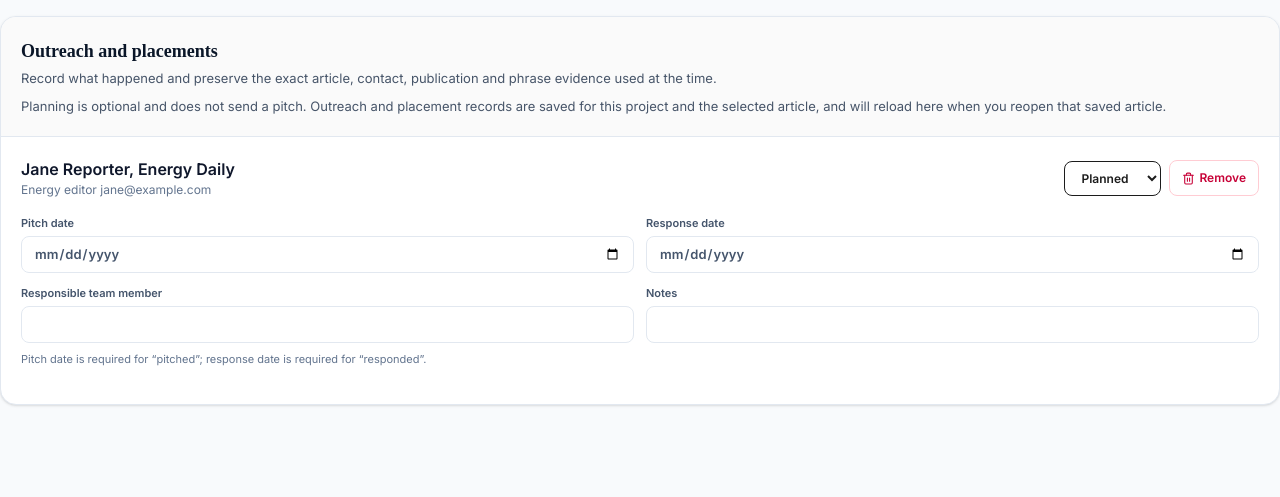
Test case: MediaOutreachPanel › includes the latest date input when moving to pitched
Type "2026-09-01" into the date field labelled "Pitch date". click: x=328, y=254
box: [21,236,634,273]
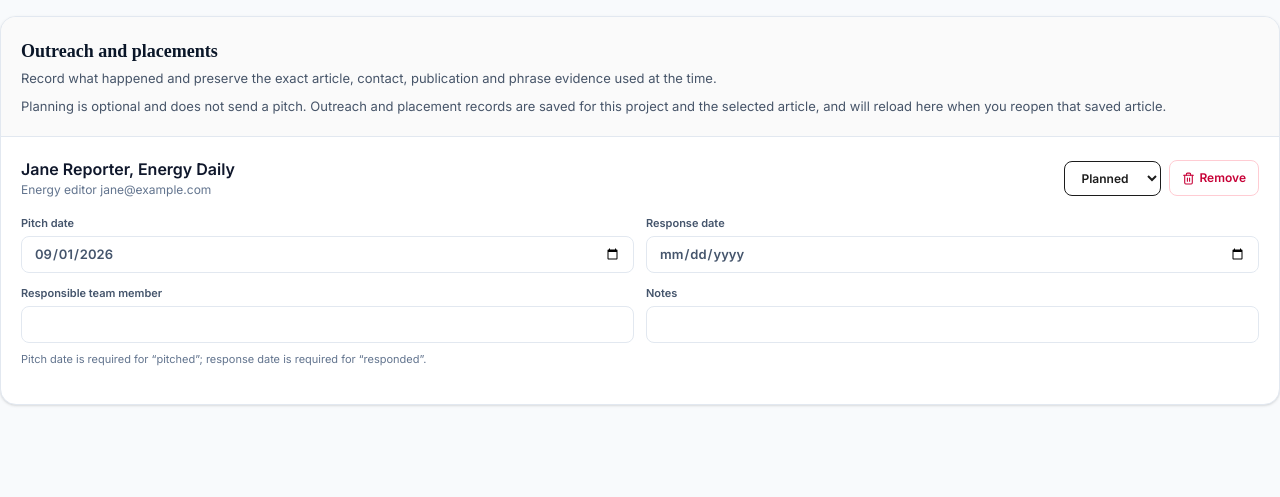
Select "pitched" in the dropdown named "Outreach status". click: x=1113, y=178
box: [1064,160,1161,196]
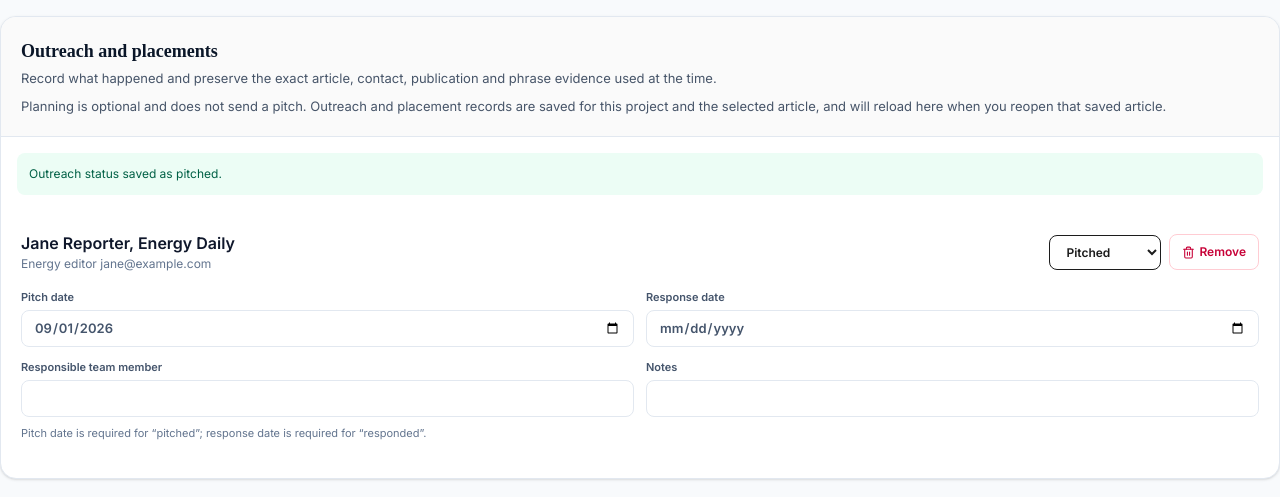
Result: the message reads "Outreach status saved as pitched." at [29,166,222,181]
